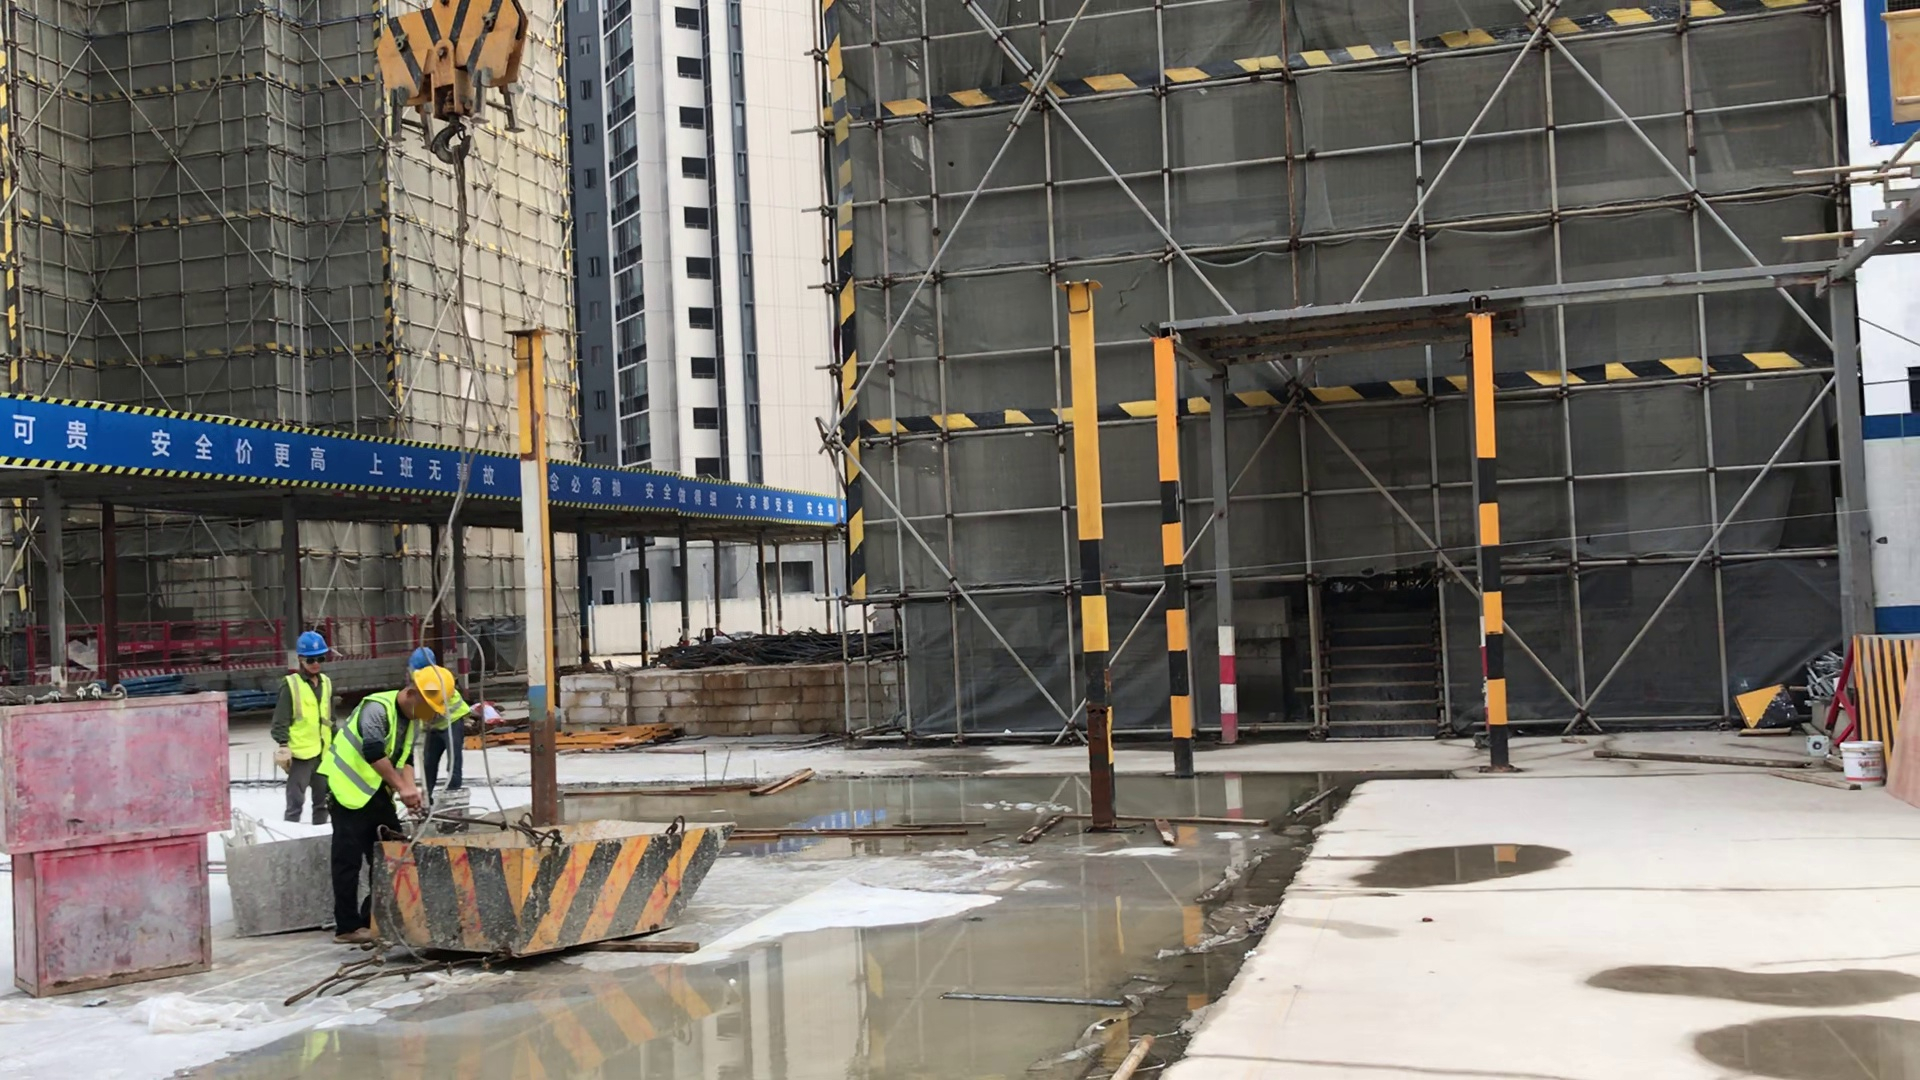fence: (10, 394, 514, 500), (555, 461, 830, 537), (119, 619, 278, 668), (337, 613, 407, 661)
helmet: (412, 664, 455, 718), (293, 633, 328, 656), (411, 644, 433, 667)
hook: (354, 1, 537, 168)
hopper: (367, 805, 751, 954), (217, 816, 332, 942)
person: (314, 663, 457, 944), (268, 629, 332, 825)
vest: (317, 687, 416, 810), (284, 672, 333, 763)
